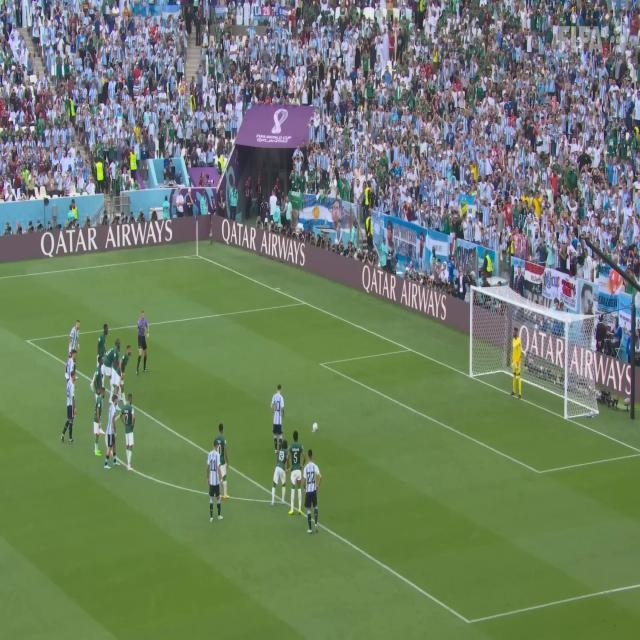player: (302, 442, 324, 533), (204, 438, 224, 526), (270, 433, 290, 515), (268, 377, 289, 455), (215, 424, 233, 507), (122, 385, 138, 473), (291, 420, 305, 518), (63, 368, 79, 447), (92, 384, 107, 464), (511, 319, 525, 399), (66, 314, 83, 378), (94, 317, 108, 394), (109, 390, 121, 472)
